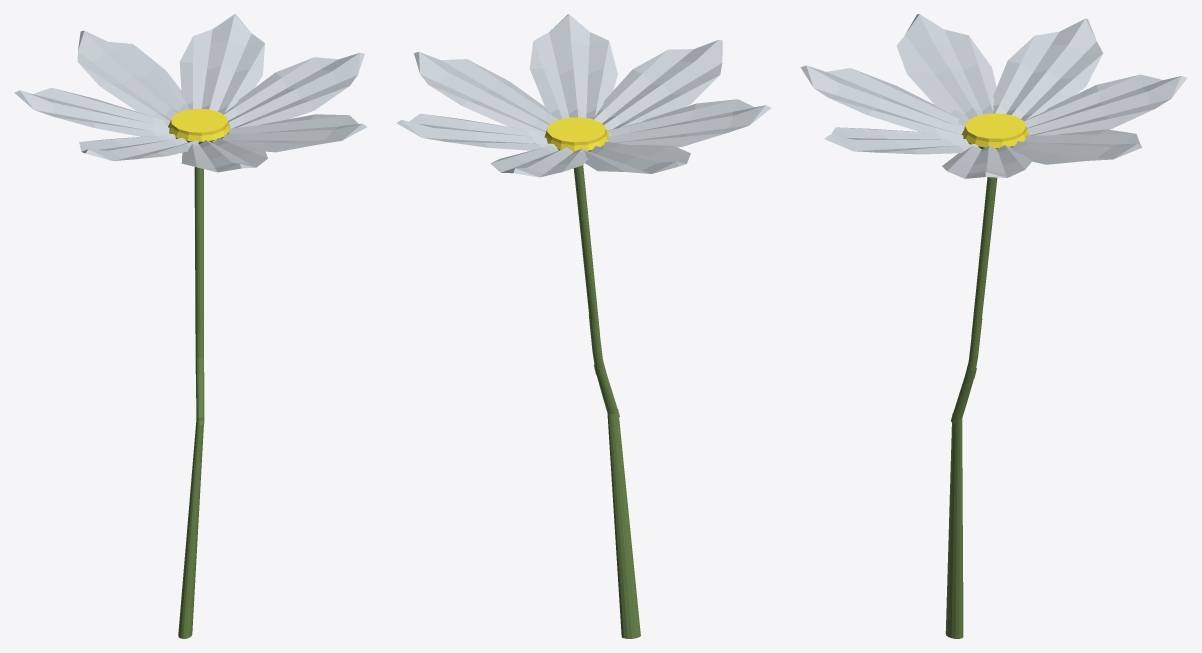
Rendered from Low Poly Plants.fbx.
3 renders of one model, left to right at view 1: azimuth 30°, elevation 25°; view 2: azimuth 150°, elevation 25°; view 3: azimuth 270°, elevation 25°, orthographic. The views are drawn at different scales.
Parts seen in each view (by area): view 1: 花瓣, Circle.002; view 2: 花瓣, Circle.002; view 3: 花瓣, Circle.002.
Part boxes in pixels (box(x1,y1,x2,y2)): 花瓣: box(14, 14, 366, 172); Circle.002: box(168, 108, 230, 638); 花瓣: box(396, 14, 771, 177); Circle.002: box(544, 117, 640, 638); 花瓣: box(800, 14, 1186, 178); Circle.002: box(945, 113, 1029, 638).
Size of the model in its own units: 958 by 1543 by 963.
